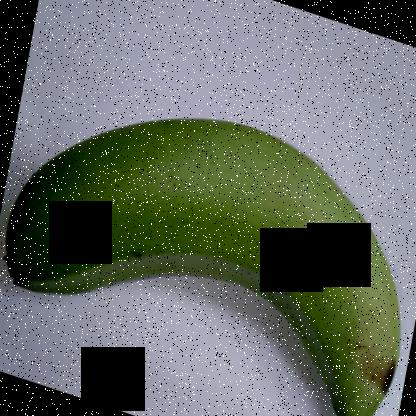freshunripe: (0, 97, 411, 415)
